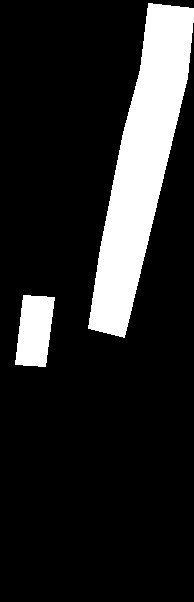parkingspot: (88, 2, 194, 337), (15, 294, 55, 366)
